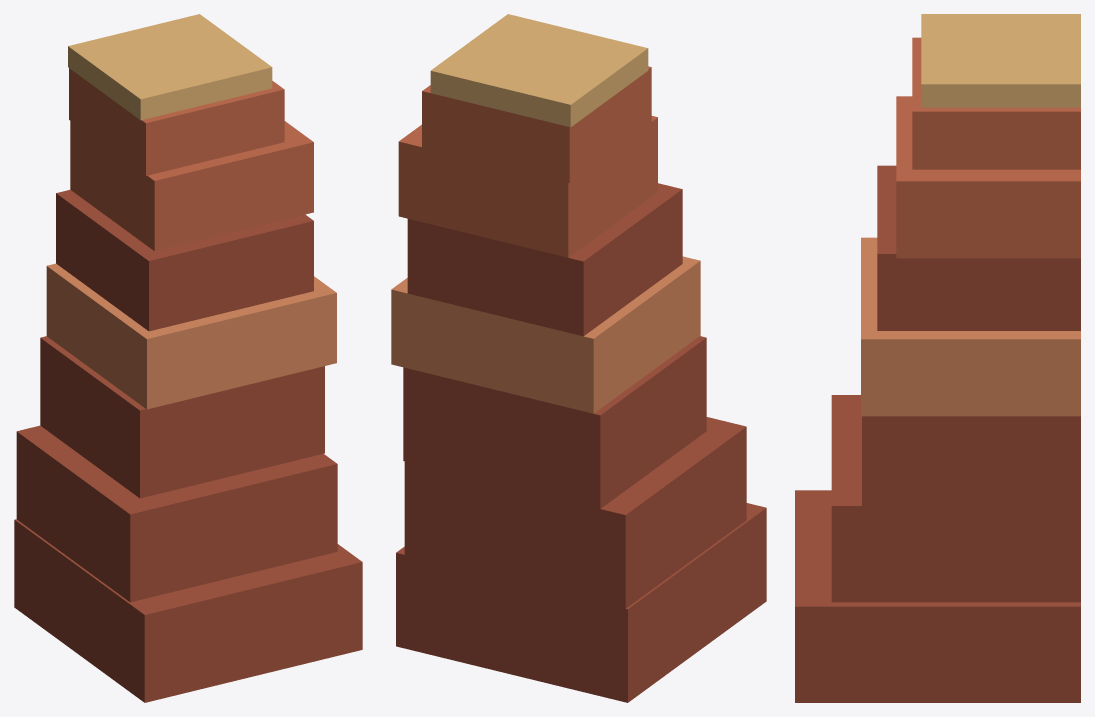
The model's file is DesertButtress.glb.
The picture shows the model from 3 angles, left to right: view 1: azimuth 30°, elevation 25°; view 2: azimuth 150°, elevation 25°; view 3: azimuth 270°, elevation 25°; orthographic projection. The views are drawn at different scales.
Parts seen in each view (by area): view 1: DesertButtress; view 2: DesertButtress; view 3: DesertButtress.
Boxes of the visible parts, x1=… form: DesertButtress: x1=14, y1=14, x2=362, y2=702; DesertButtress: x1=391, y1=14, x2=766, y2=702; DesertButtress: x1=795, y1=14, x2=1080, y2=702.
Size of the model in its own units: 6.61 by 15.6 by 6.72.
Materials: 1 (1 with a texture image).
